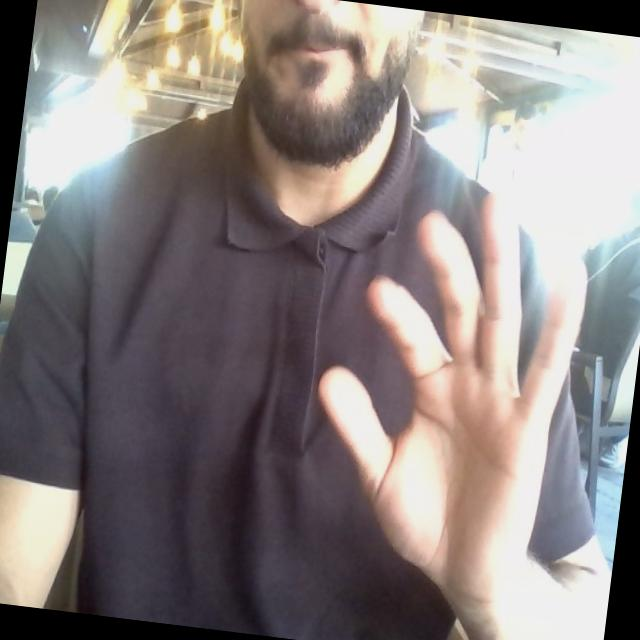Hand: (319, 198, 584, 609)
